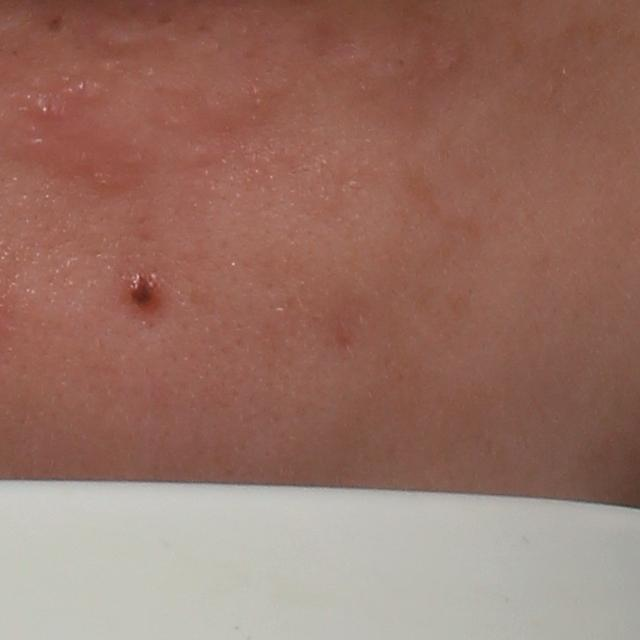hypertrophic_scar: (84, 21, 177, 61)
nevus: (127, 274, 159, 306)
